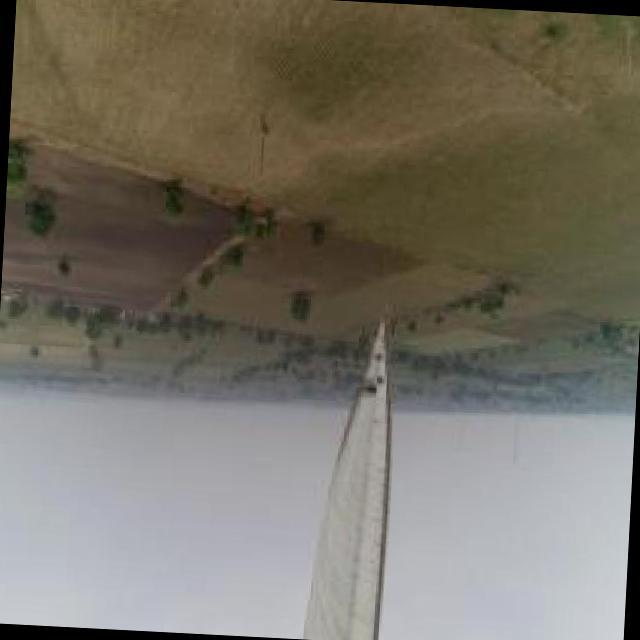Dirt: (300, 319, 394, 640)
Pin Hole: (360, 350, 387, 400)
